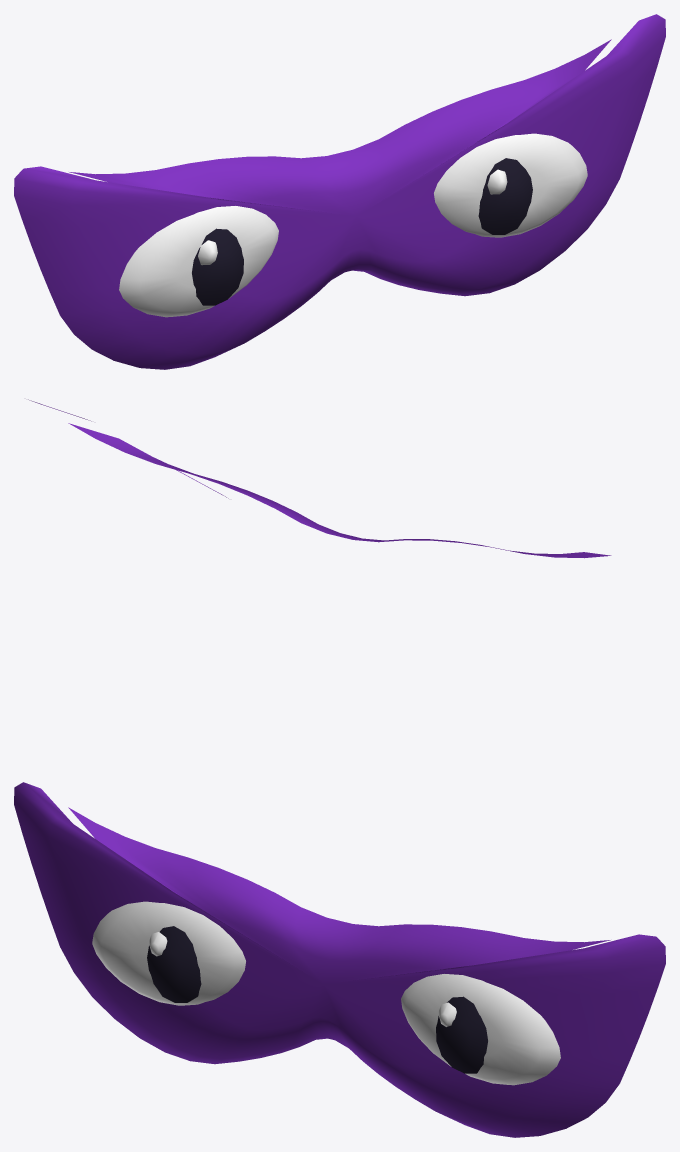
Rendered from hero_mask.glb.
3 renders of one model, top to bottom at view 1: azimuth 30°, elevation 25°; view 2: azimuth 150°, elevation 25°; view 3: azimuth 330°, elevation 25°, orthographic.
Visible parts, largest first — view 1: hero_mask; view 2: hero_mask; view 3: hero_mask.
Boxes of the visible parts, x1,y1,x2,y2 form: hero_mask: (14,14,665,369); hero_mask: (28,399,611,558); hero_mask: (14,782,665,1137).
Size of the model in its own units: 0.5045 by 0.1763 by 0.039.
